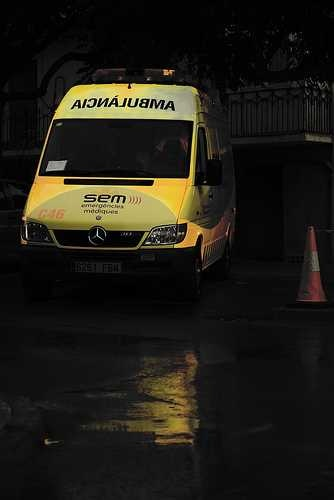Ambulance: (31, 54, 237, 301)
